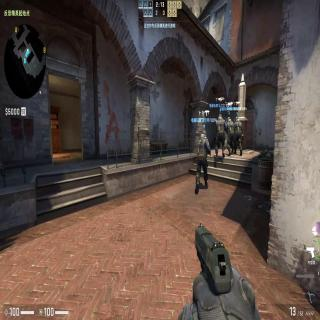CT-Body: (194, 130, 211, 193), (214, 114, 225, 158), (234, 117, 243, 156), (227, 116, 234, 154)
CT-Head: (202, 131, 206, 139), (218, 115, 222, 120), (228, 117, 232, 122), (236, 118, 240, 120)
